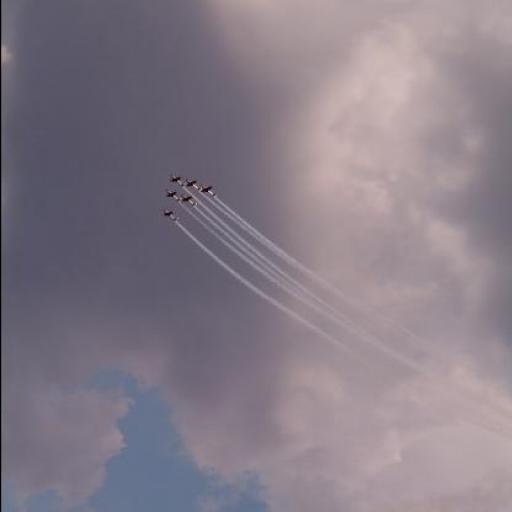aircraft: (166, 187, 184, 201), (163, 208, 179, 223), (198, 186, 217, 198), (187, 177, 203, 191), (182, 195, 198, 207), (170, 176, 187, 187)
